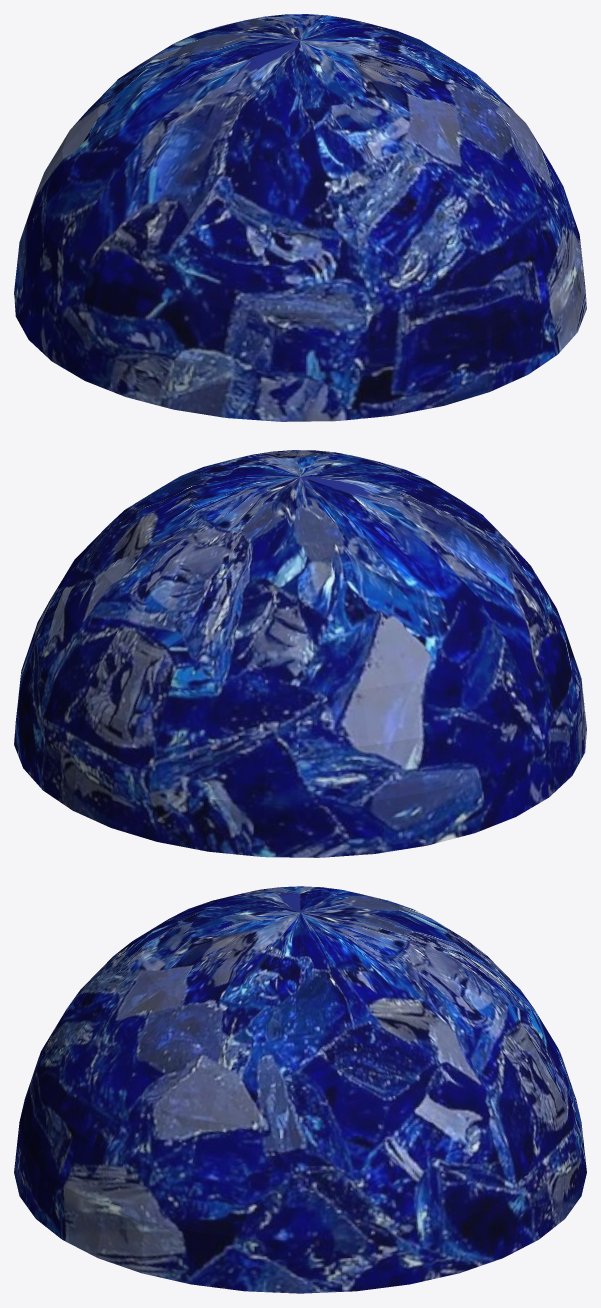
File: Cobalto.glb
The picture shows the model from 3 angles, top to bottom: view 1: azimuth 30°, elevation 25°; view 2: azimuth 150°, elevation 25°; view 3: azimuth 270°, elevation 25°; orthographic projection.
Parts seen in each view (by area): view 1: Esfera; view 2: Esfera; view 3: Esfera.
Boxes of the visible parts, bbox=[...] form: Esfera: bbox=[14, 14, 586, 421]; Esfera: bbox=[14, 450, 586, 857]; Esfera: bbox=[14, 886, 586, 1293].
Bounding box in the file's own units: 2 × 1 × 2.
1 material, 1 textured.
